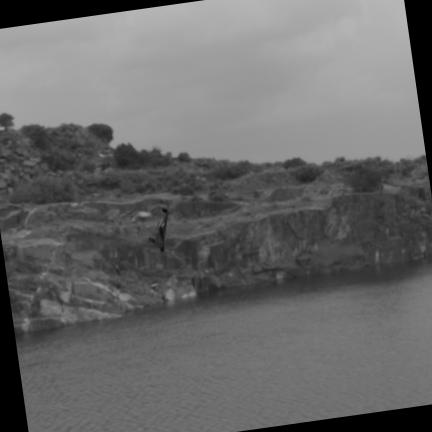Shahed: (150, 209, 168, 251)
